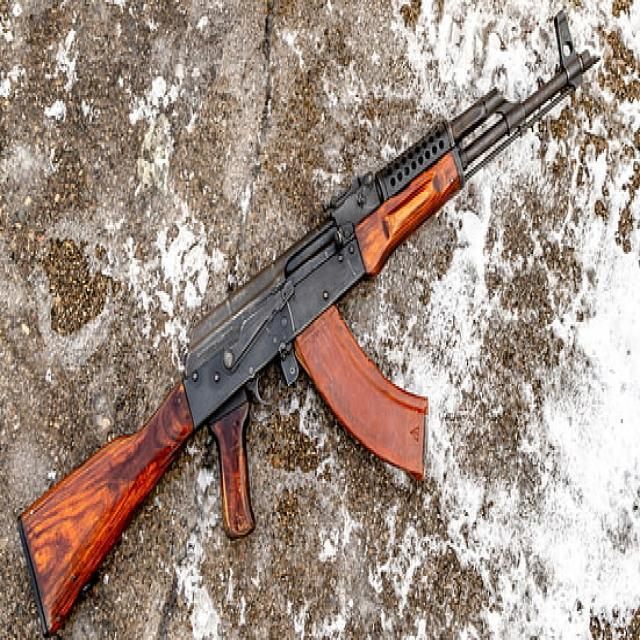weapon: (16, 9, 601, 640)
